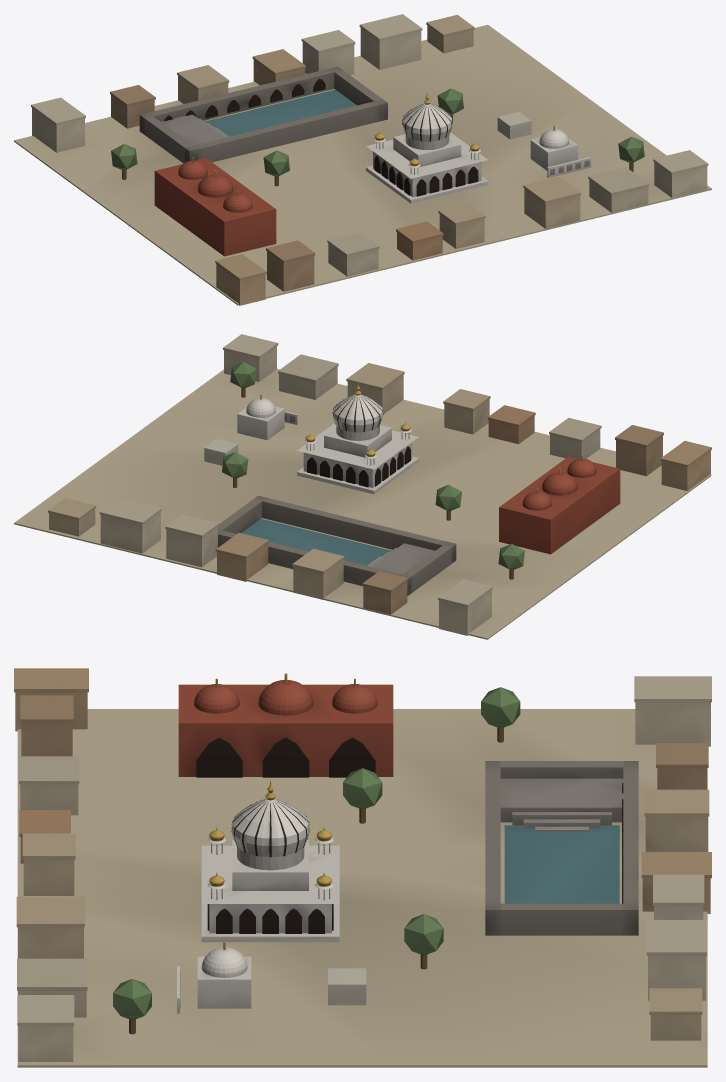
File: nizamuddin.glb
3 views of the same model, one above another, from view 1: azimuth 30°, elevation 25°; view 2: azimuth 150°, elevation 25°; view 3: azimuth 270°, elevation 25° (orthographic). The views are drawn at different scales.
Visible parts, largest first — view 1: p0_court, p2_tomb, p1_mosque, p3_domes; view 2: p0_court, p2_tomb, p1_mosque, p3_domes; view 3: p0_court, p2_tomb, p1_mosque, p3_domes.
Part boxes in pixels (x1=…): p0_court: x1=14, y1=14, x2=711, y2=305; p2_tomb: x1=111, y1=88, x2=644, y2=203; p1_mosque: x1=154, y1=158, x2=276, y2=256; p3_domes: x1=178, y1=92, x2=568, y2=212; p0_court: x1=14, y1=334, x2=711, y2=639; p2_tomb: x1=204, y1=362, x2=524, y2=579; p1_mosque: x1=499, y1=456, x2=620, y2=554; p3_domes: x1=246, y1=383, x2=596, y2=510; p0_court: x1=14, y1=668, x2=711, y2=1067; p2_tomb: x1=113, y1=687, x2=520, y2=1034; p1_mosque: x1=178, y1=684, x2=393, y2=777; p3_domes: x1=194, y1=673, x2=377, y2=977.
Bounding box in the file's own units: 110 × 19.5 × 91.01.
